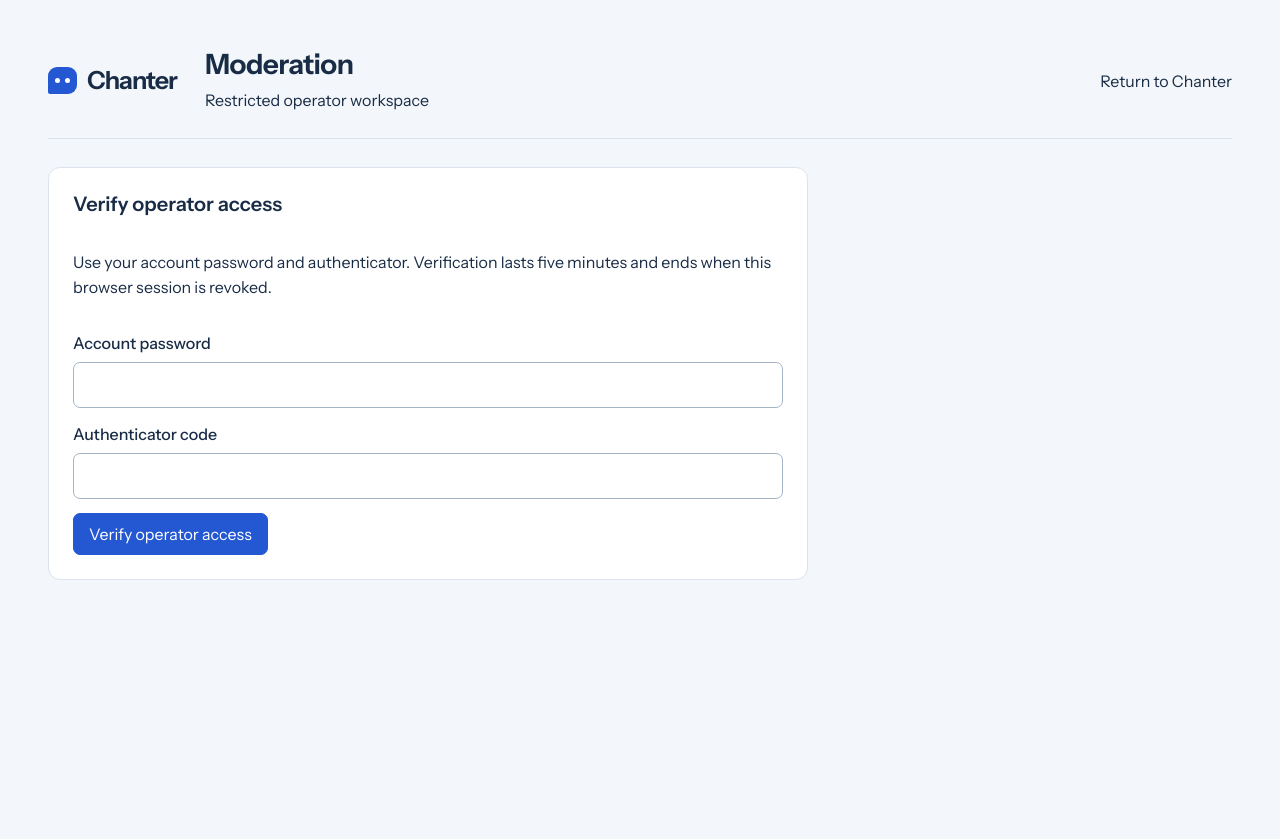
Test: requires verification and an investigation reason before reading a report queue
Type "correct password" into the password field labelled "Account password" at coordinates (428, 385), box [73,362,783,408]
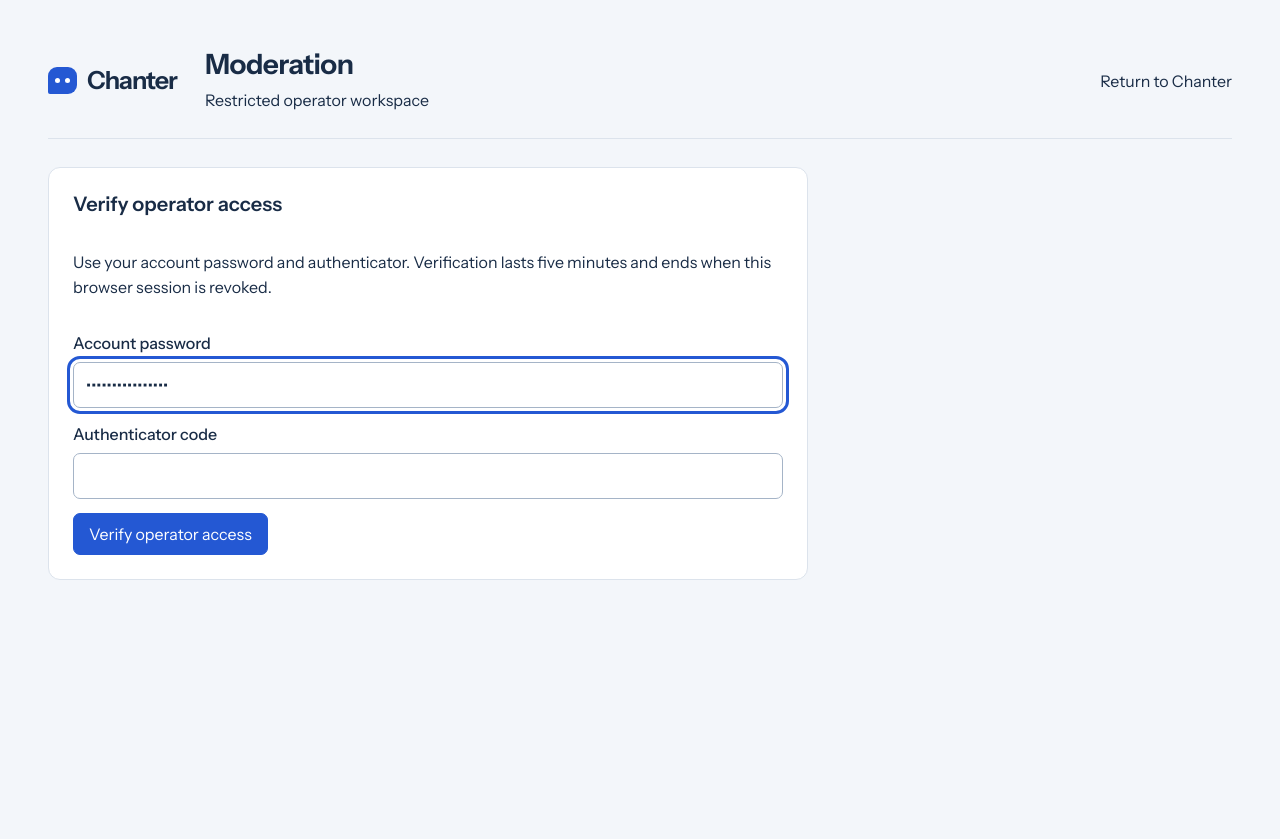
Type "123456" into the field labelled "Authenticator code" at coordinates (428, 476), box [73,453,783,499]
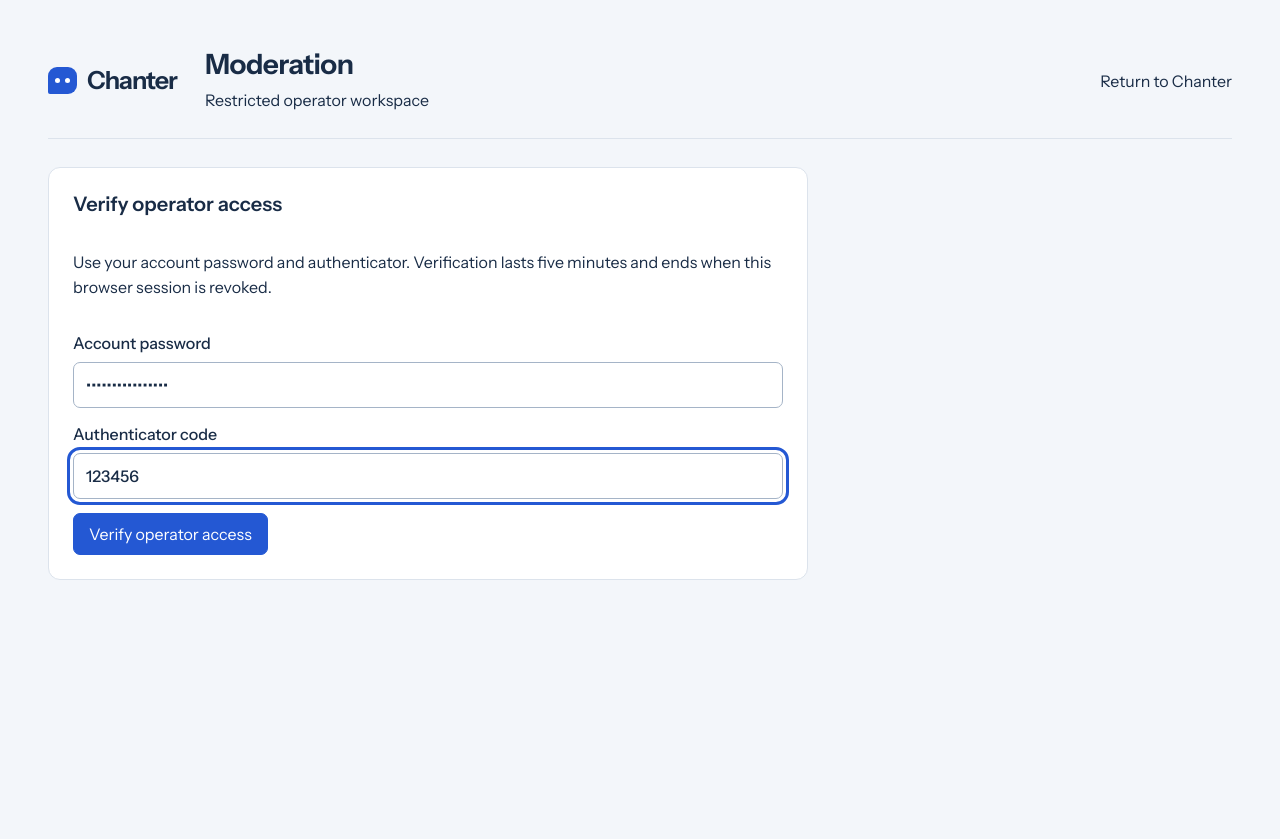
Click the button "Verify operator access" at coordinates (170, 534), box [73,513,268,555]
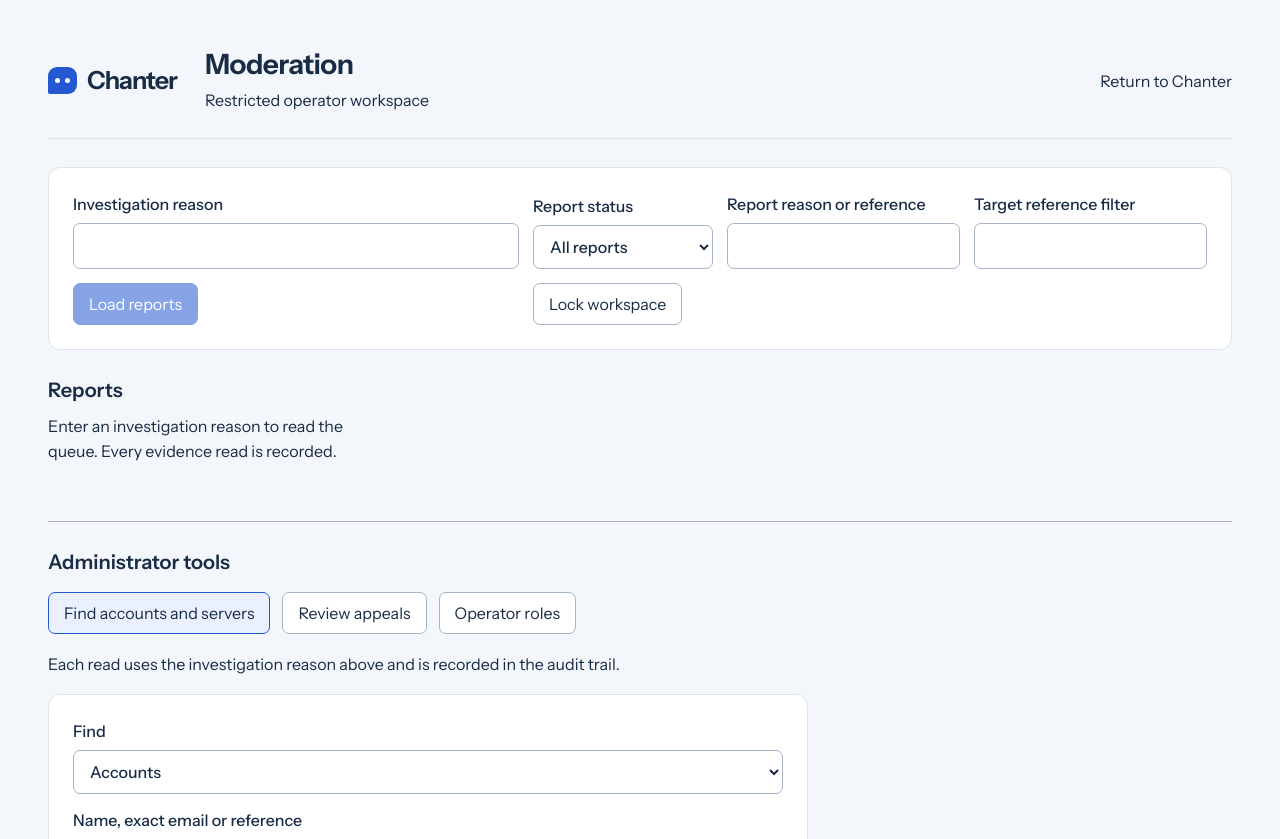
Now the button "Load reports" is disabled, box [73,283,198,325]
Type "Review assigned abuse cases" into the field labelled "Investigation reason" at coordinates (296, 246), box [73,223,519,269]
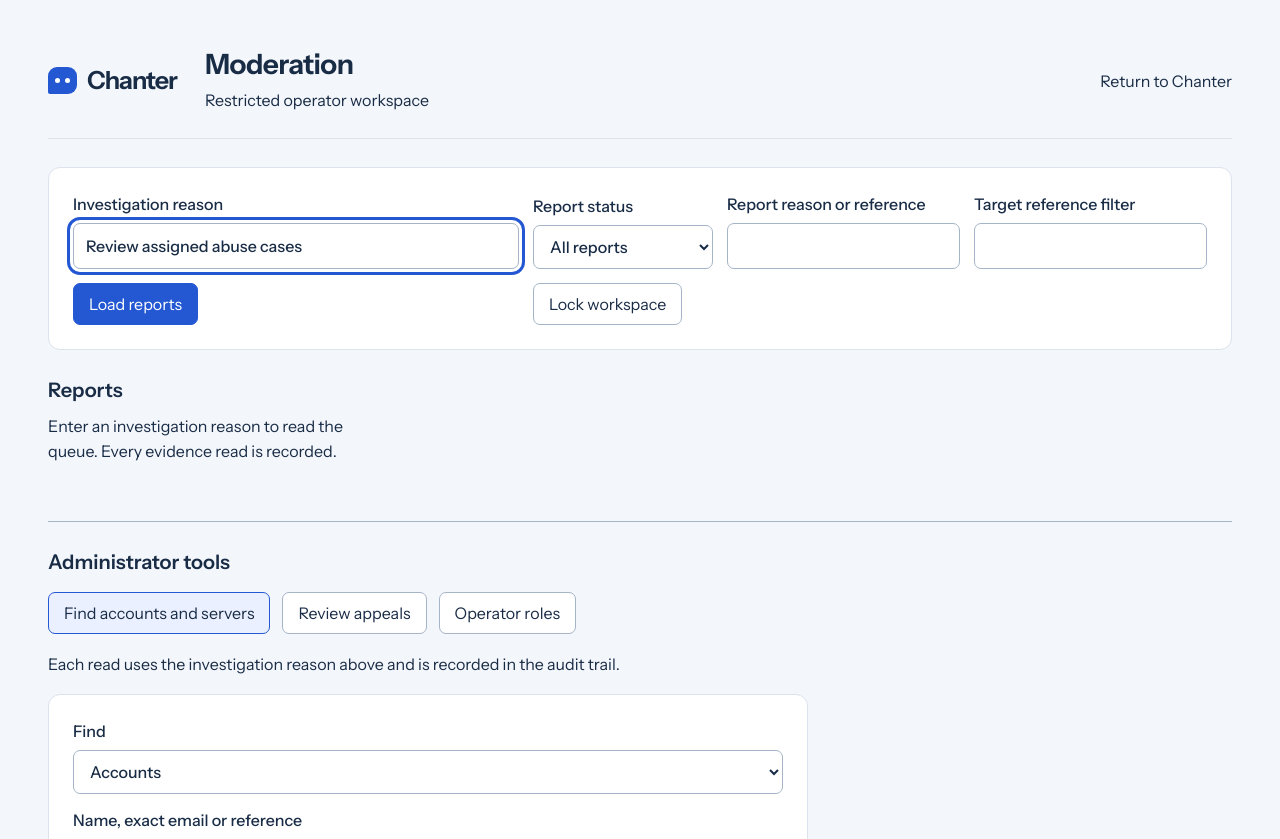
Click the button "Load reports" at coordinates (136, 304), box [73,283,198,325]
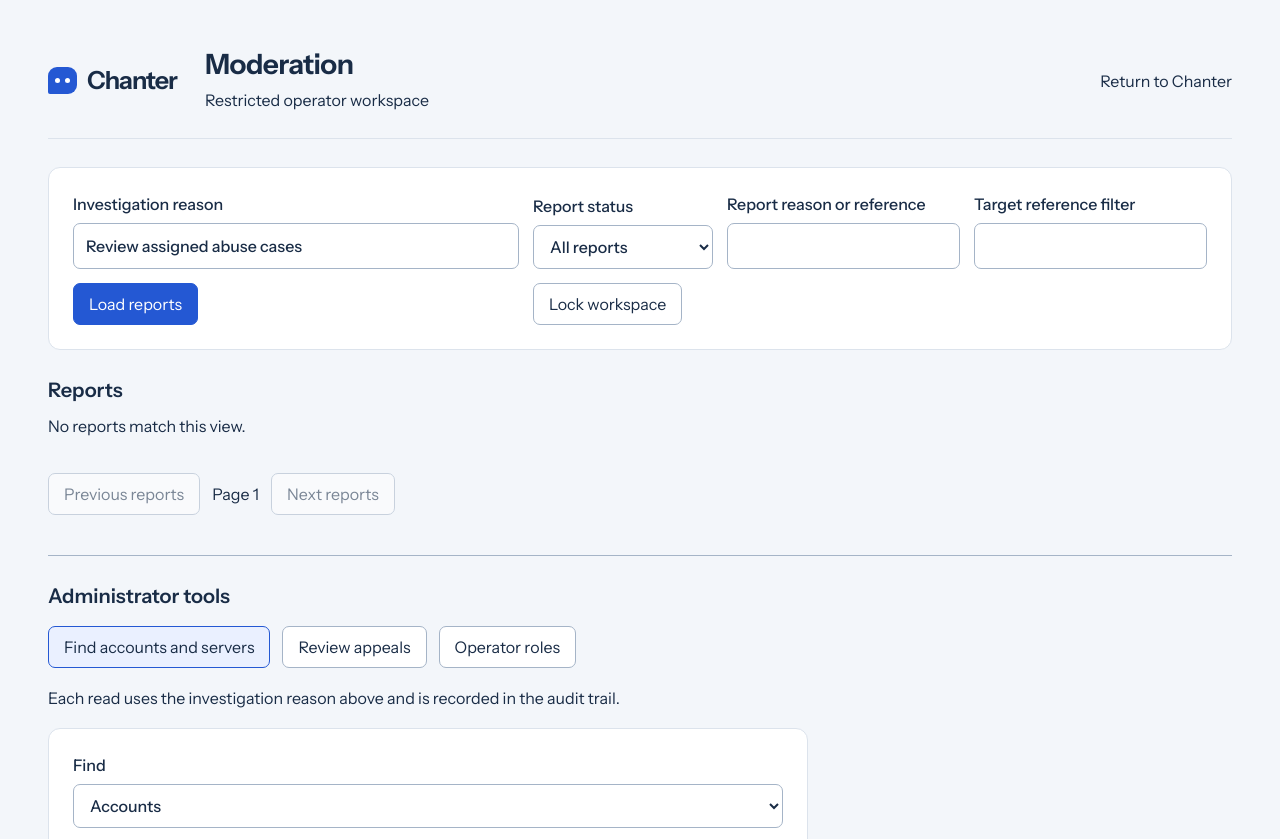
Now the text "No reports match this view." is shown, box [48,416,246,436]
